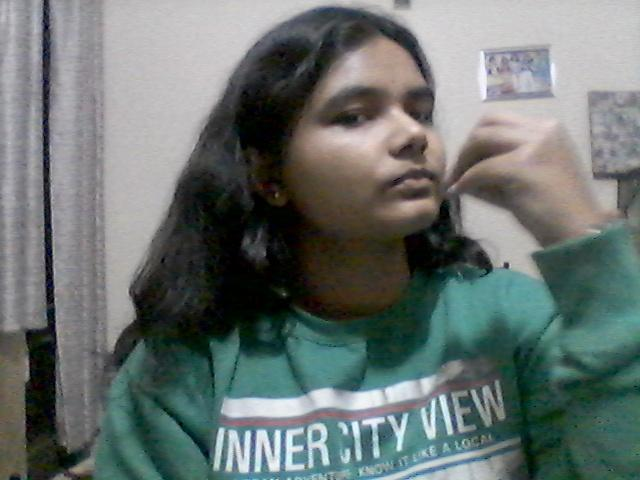eat: (431, 113, 631, 261)
